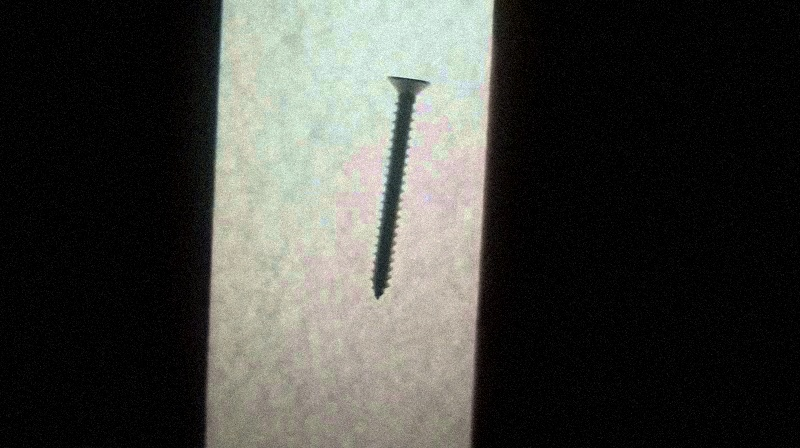S002: (368, 72, 433, 303)
